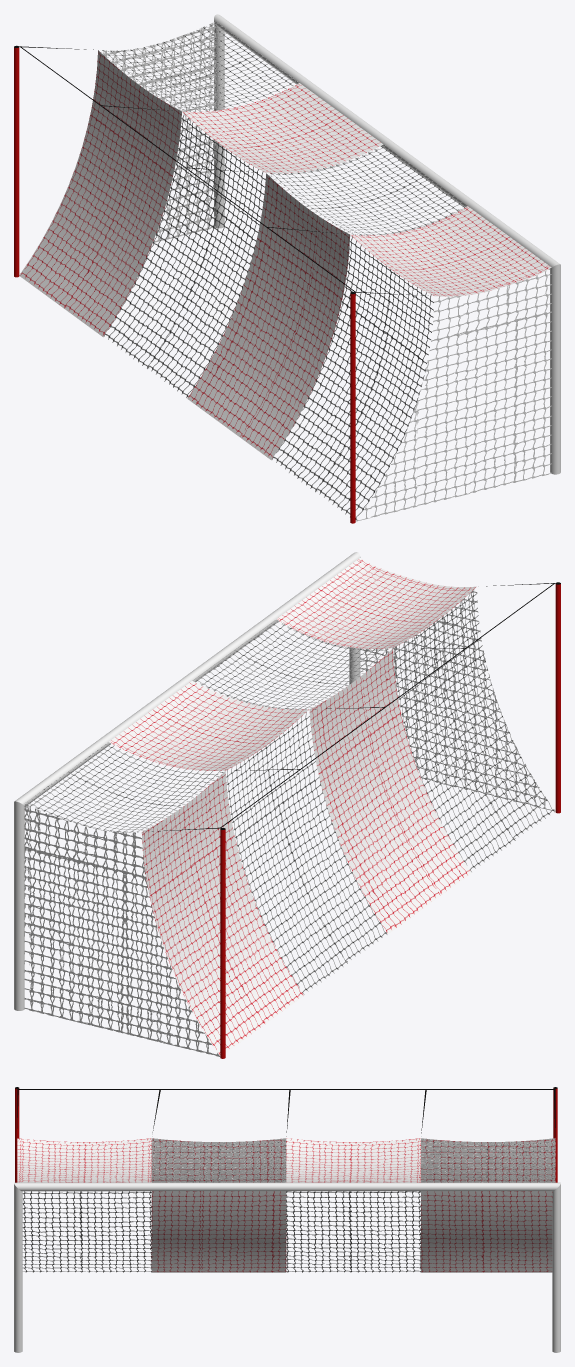
Rendered from goal.dae.
3 views of the same model, one above another, from view 1: azimuth 30°, elevation 25°; view 2: azimuth 150°, elevation 25°; view 3: azimuth 270°, elevation 25° (orthographic). The views are drawn at different scales.
Visible parts, largest first — view 1: SketchUp (×14); view 2: SketchUp (×14); view 3: SketchUp (×12).
Part boxes in pixels (box(x1,y1,x2,y2)): SketchUp (×14): box(14, 14, 560, 523); SketchUp (×14): box(14, 552, 560, 1058); SketchUp (×12): box(14, 1088, 560, 1352).
Size of the model in its own units: 106 by 298 by 110.
7 materials, 3 textured.
